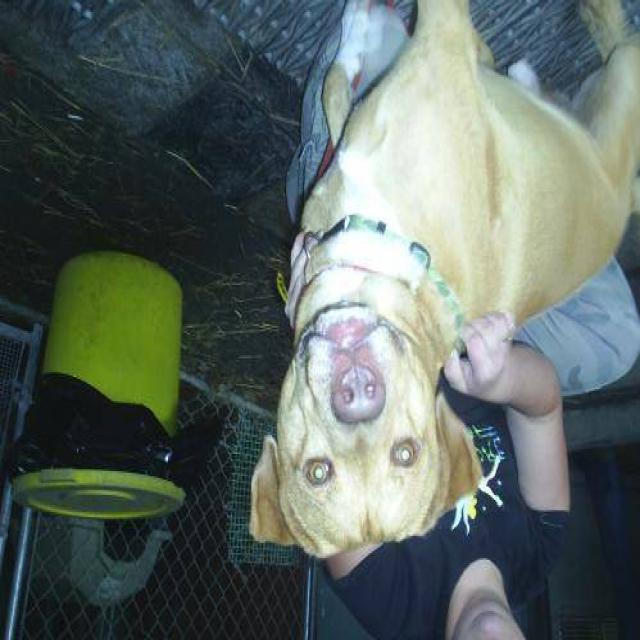dog: (245, 0, 640, 589)
